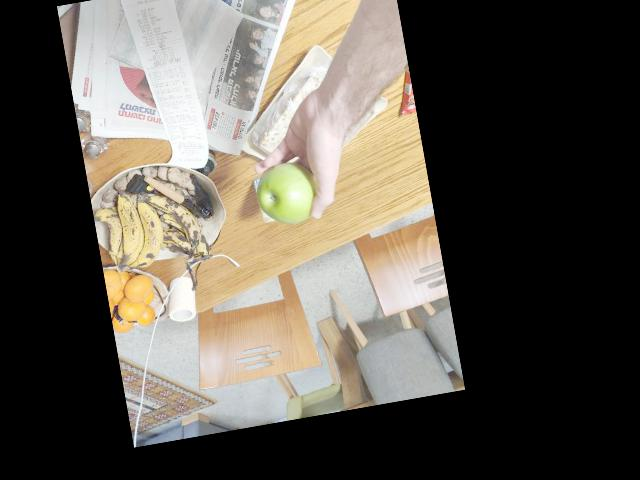apple: (256, 153, 326, 231)
